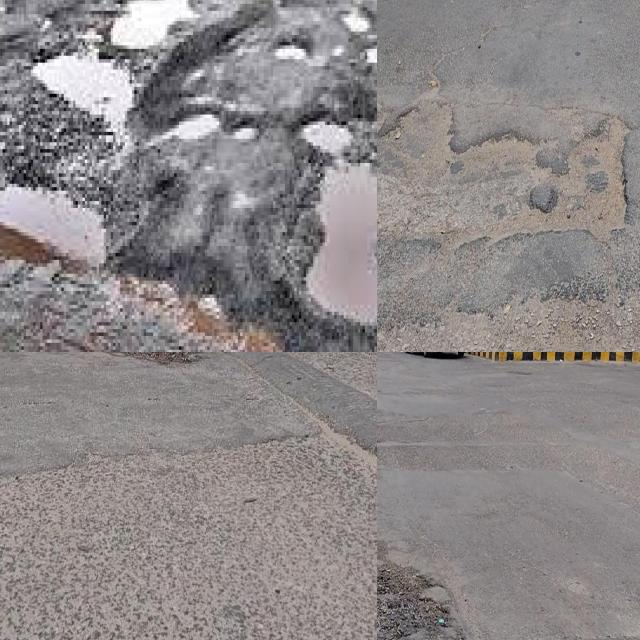Pothole: (301, 125, 377, 326), (529, 107, 637, 248), (440, 128, 537, 246), (0, 187, 106, 270), (33, 59, 132, 128), (377, 563, 448, 640), (186, 305, 282, 352), (111, 4, 193, 52), (158, 115, 224, 142), (109, 352, 185, 364)
Unmarked Bump: (227, 352, 377, 457)
